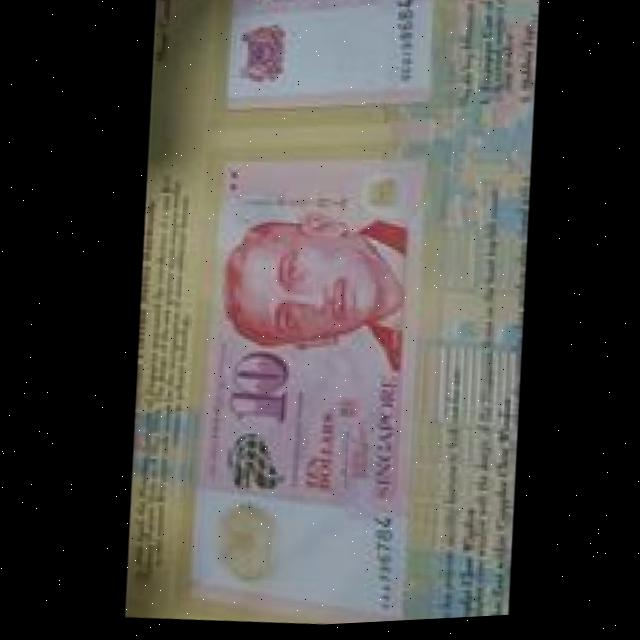banknote: (168, 134, 450, 633), (218, 349, 295, 430), (287, 392, 343, 501)
